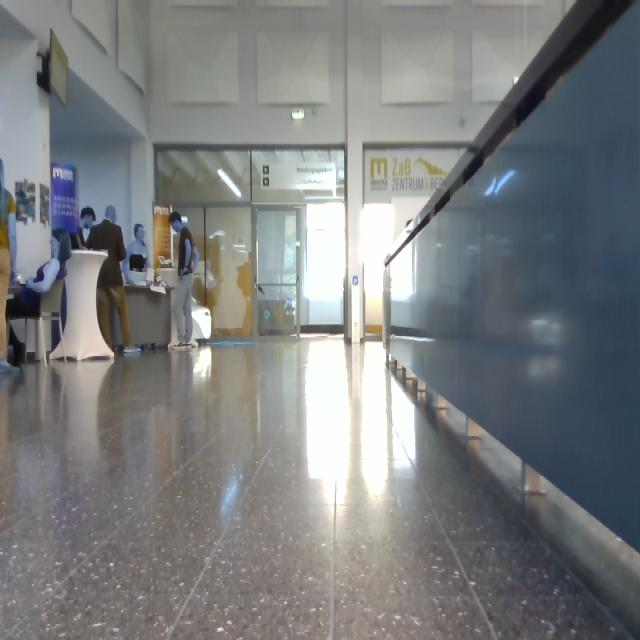banner: (56, 160, 82, 229)
chair: (40, 277, 70, 360), (32, 314, 38, 346)
desk: (130, 281, 175, 342)
door: (215, 210, 258, 337), (308, 204, 349, 332), (264, 213, 304, 337)
light bulb: (225, 173, 249, 201), (1, 121, 18, 137)
person: (92, 204, 144, 345), (15, 229, 77, 314), (1, 153, 22, 361), (173, 209, 201, 342), (128, 220, 147, 280), (85, 204, 100, 240), (392, 218, 411, 246)
staircase: (386, 1, 640, 630)
table: (57, 243, 116, 351)
tiled floor: (1, 341, 636, 640)
